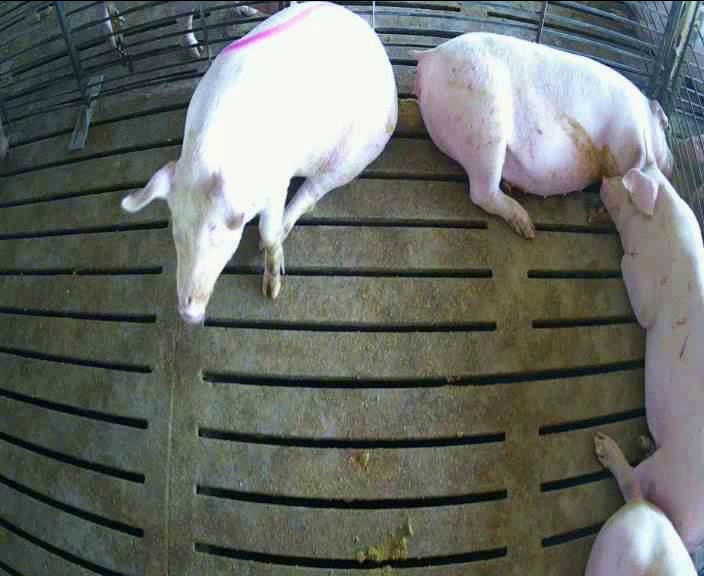pig: (122, 2, 397, 323), (593, 132, 703, 552)
